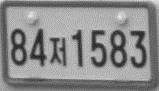1: (70, 27, 82, 68)
3: (129, 29, 147, 68)
4: (28, 27, 48, 67)
5: (90, 29, 106, 67)
8: (109, 29, 127, 67), (10, 28, 27, 64)
저: (48, 36, 66, 66)
